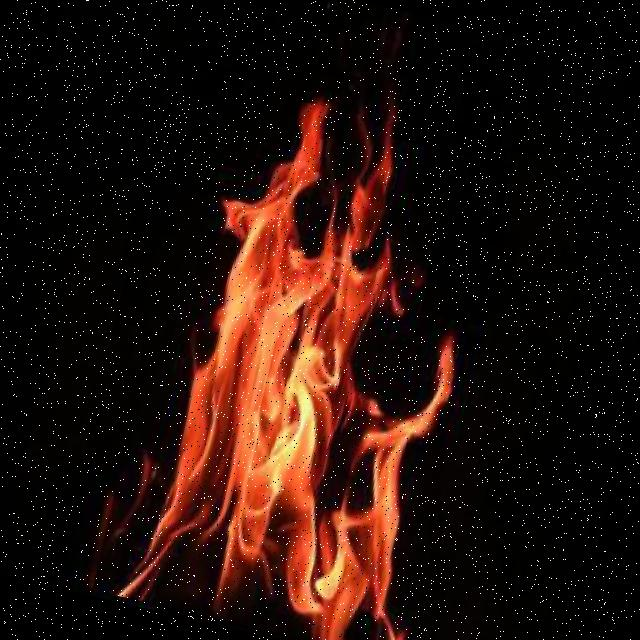fire: (91, 80, 522, 640)
